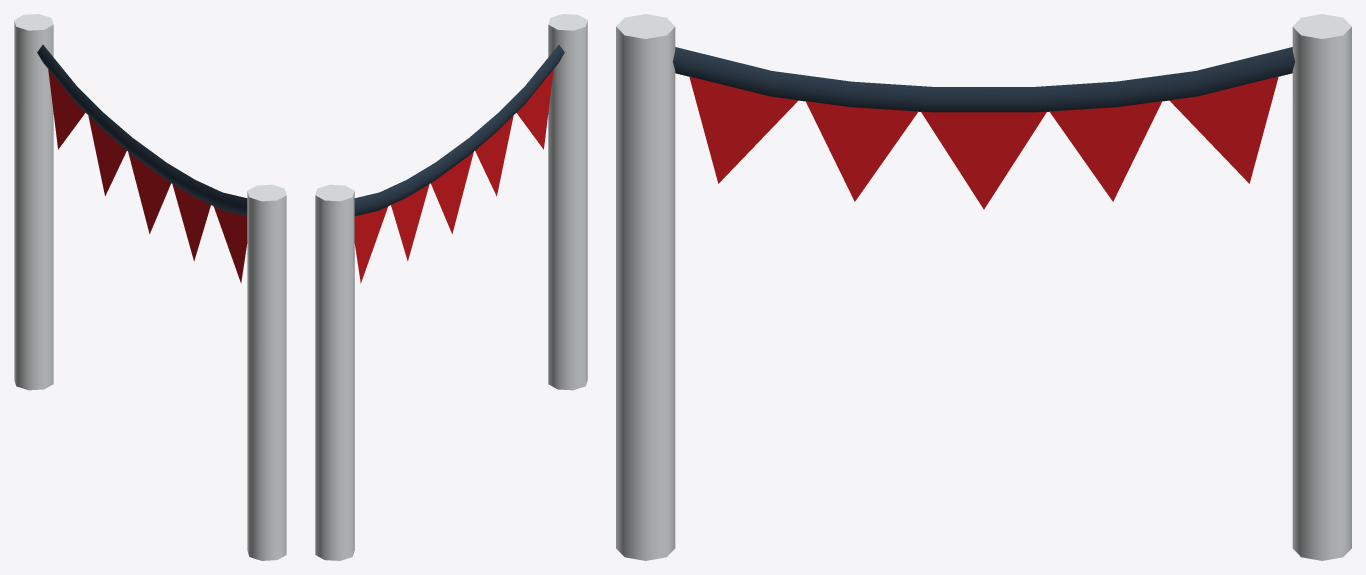
File: flags02_s01.FBX
3 renders of one model, left to right at view 1: azimuth 30°, elevation 25°; view 2: azimuth 150°, elevation 25°; view 3: azimuth 270°, elevation 25°, orthographic. The views are drawn at different scales.
Parts seen in each view (by area): view 1: flags02_s01; view 2: flags02_s01; view 3: flags02_s01.
Boxes of the visible parts, left/top/right/bottom form: flags02_s01: left=14, top=14, right=286, bottom=560; flags02_s01: left=315, top=14, right=587, bottom=560; flags02_s01: left=616, top=14, right=1351, bottom=560.
Size of the model in its own units: 35 by 434 by 339.
Materials: 1 (1 with a texture image).
